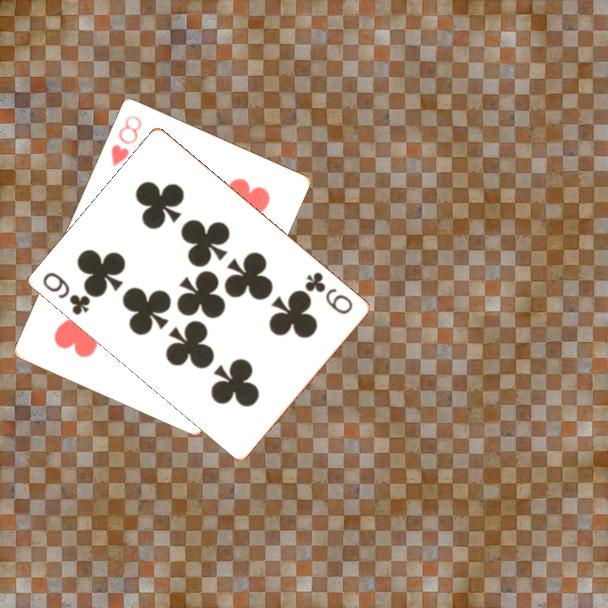c09: (39, 268, 94, 318), (301, 268, 356, 317)
h08: (107, 111, 145, 169)
